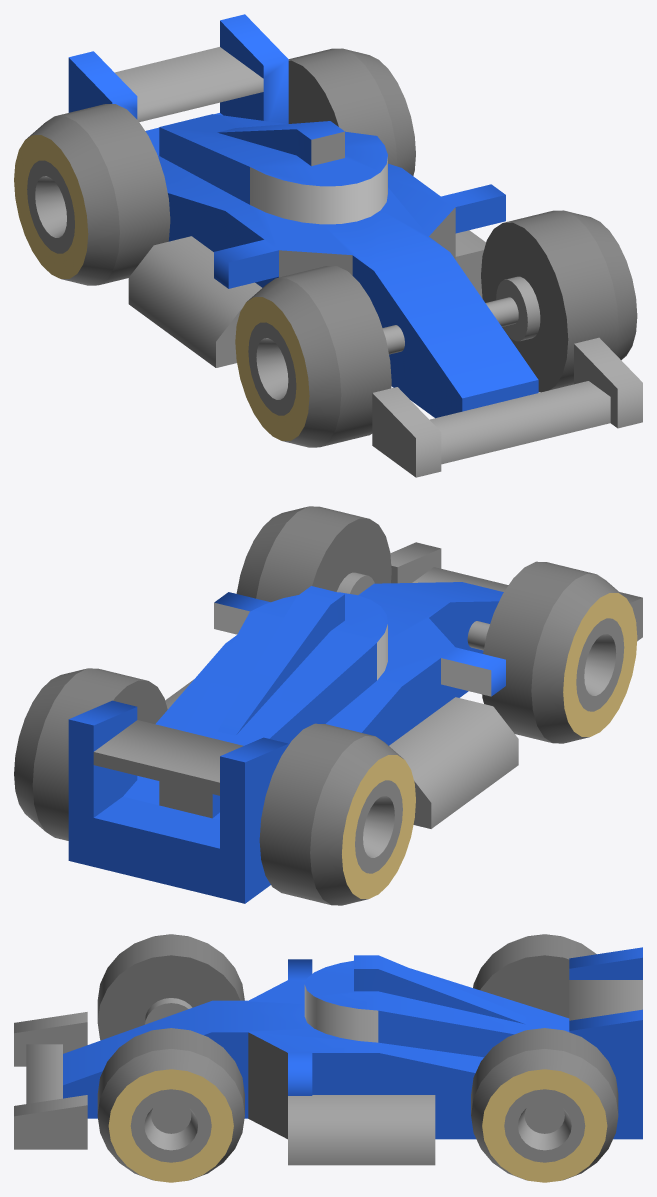
The model's file is BlueCar.gltf.
3 views of the same model, one above another, from view 1: azimuth 30°, elevation 25°; view 2: azimuth 150°, elevation 25°; view 3: azimuth 270°, elevation 25° (orthographic). The views are drawn at different scales.
Parts seen in each view (by area): view 1: body, wheel_frontRight, wheel_backRight, wheel_frontLeft, wheel_backLeft; view 2: body, wheel_backRight, wheel_frontRight, wheel_backLeft, wheel_frontLeft; view 3: body, wheel_backLeft, wheel_frontLeft, wheel_frontRight, wheel_backRight.
Boxes of the visible parts, box(x1,y1,x2,y2) form: body: box(68, 14, 642, 477); wheel_frontRight: box(235, 266, 391, 447); wheel_backRight: box(14, 104, 170, 285); wheel_frontLeft: box(481, 210, 637, 392); wheel_backLeft: box(288, 48, 415, 175); body: box(68, 542, 642, 903); wheel_backRight: box(259, 723, 415, 905); wheel_frontRight: box(482, 561, 637, 743); wheel_backLeft: box(14, 668, 167, 840); wheel_frontLeft: box(236, 506, 391, 602); body: box(14, 947, 642, 1165); wheel_backLeft: box(471, 1028, 618, 1182); wheel_frontLeft: box(97, 1028, 244, 1182); wheel_frontRight: box(97, 934, 244, 1040); wheel_backRight: box(473, 934, 596, 1018).
Bounding box in the file's own units: 1.3 × 0.7325 × 2.56.
